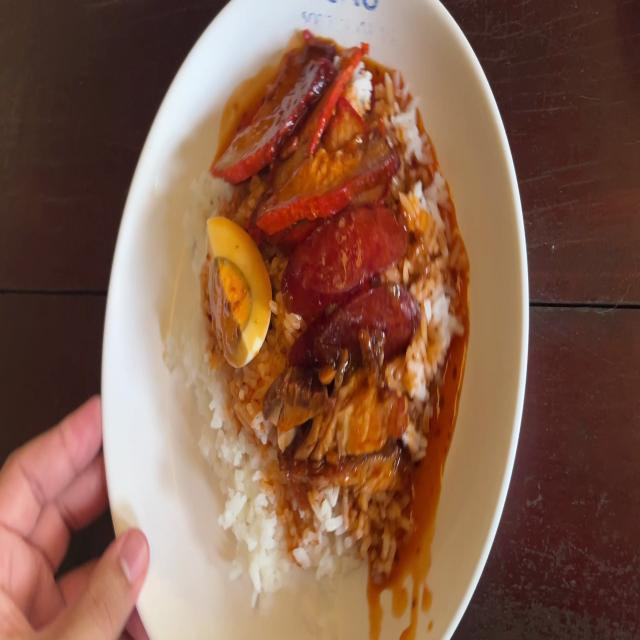01boiled_egg: (208, 217, 270, 367)
01chainese_sausage: (293, 205, 408, 348)
01crispy_pork: (271, 389, 409, 496)
01red_pork: (228, 57, 388, 201)
01red_pork_and_crispy_pork: (179, 52, 454, 564)
01rice: (197, 377, 272, 567)
